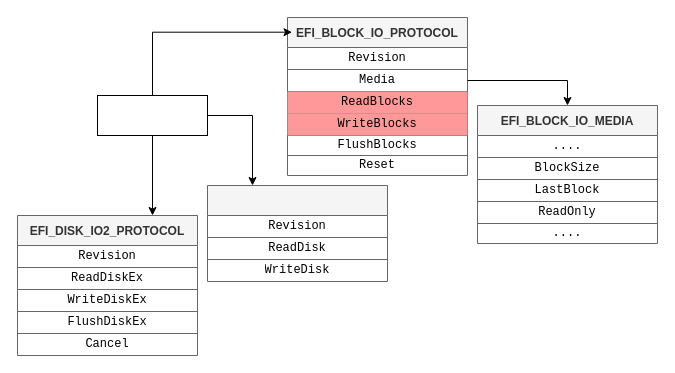
This 675x373 diagram has some shape labels left out. The shapes that lost their labels are listed below. From the top down, each one's box as (x1, y1, x2, y2) in pixels, then its label:
(96, 94, 208, 136): MemoryIO
(206, 184, 388, 282): EFI_DISK_IO_PROTOCOL
